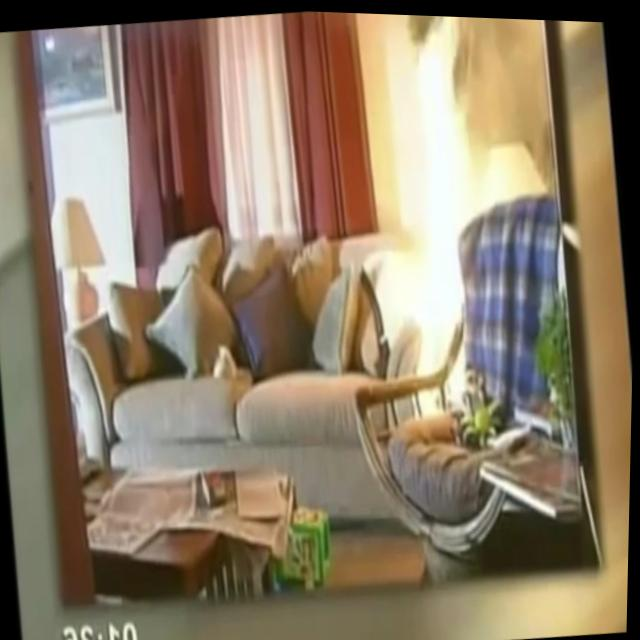fire: (362, 11, 505, 423)
